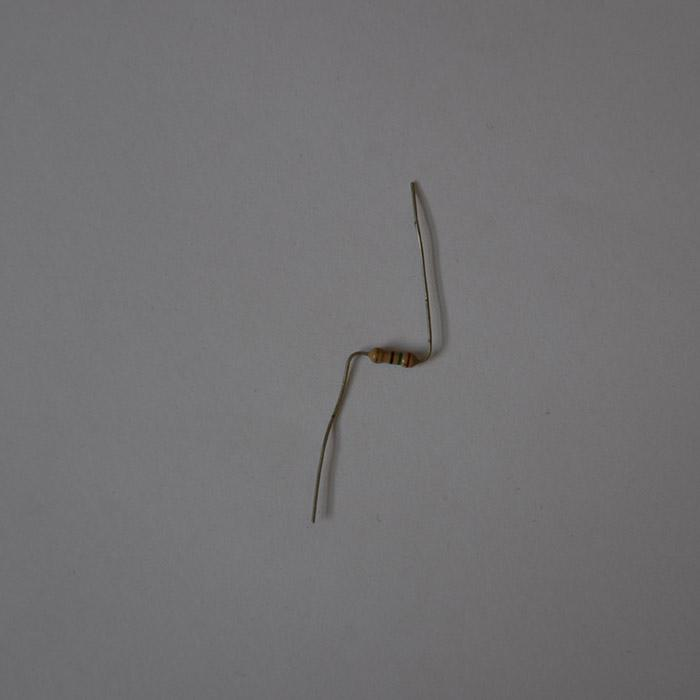resistor: (368, 346, 418, 368)
